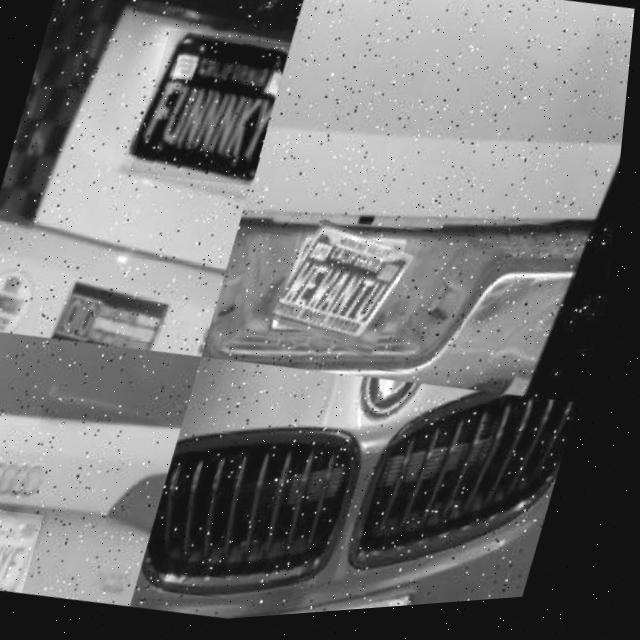LicensePlate: (131, 26, 295, 198), (274, 220, 430, 369), (0, 500, 56, 599)
